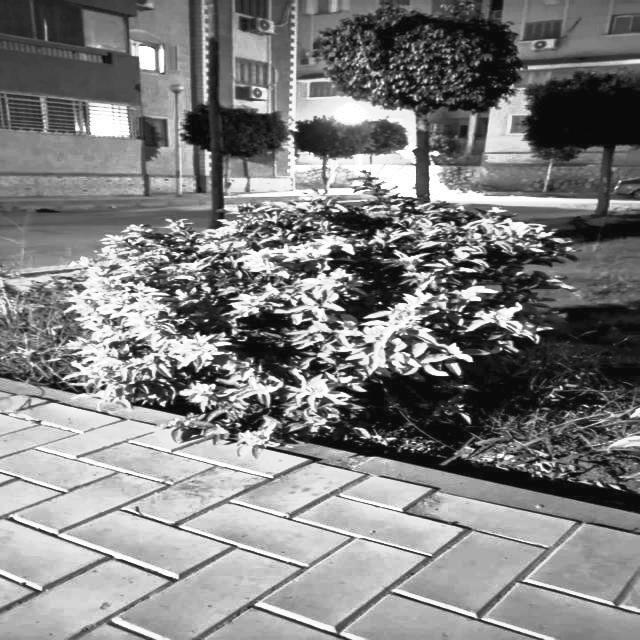Tree: (326, 11, 518, 214), (526, 74, 640, 214), (183, 107, 285, 223)
